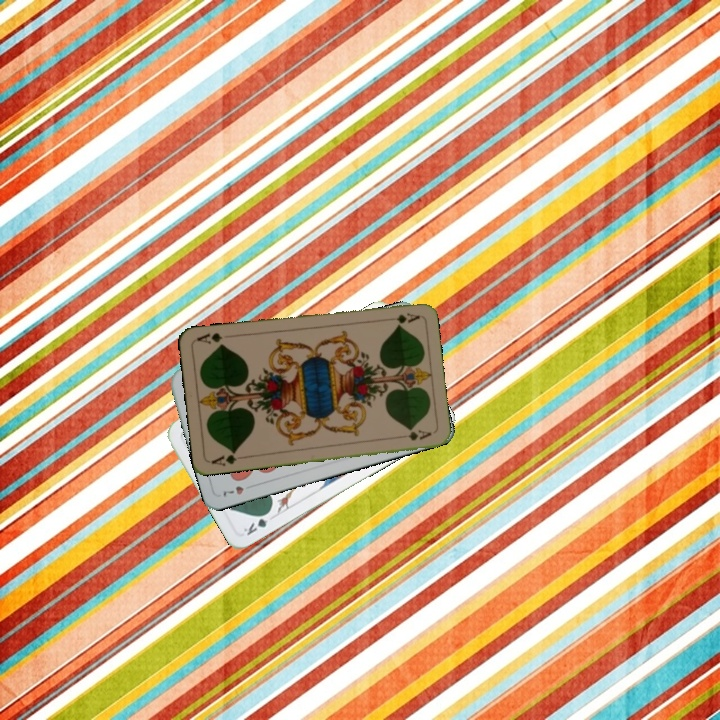GA: (207, 447, 248, 468), (381, 308, 421, 326)
GK: (240, 507, 277, 538)
H7: (218, 481, 257, 500)
